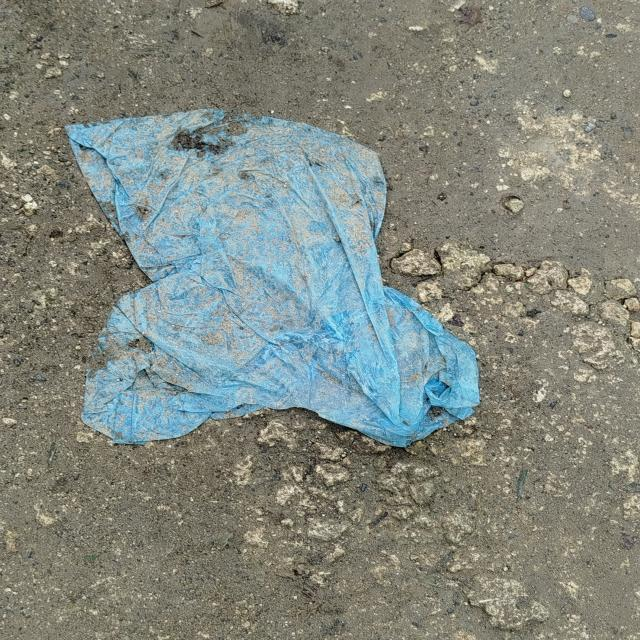residual: (32, 85, 506, 472)
